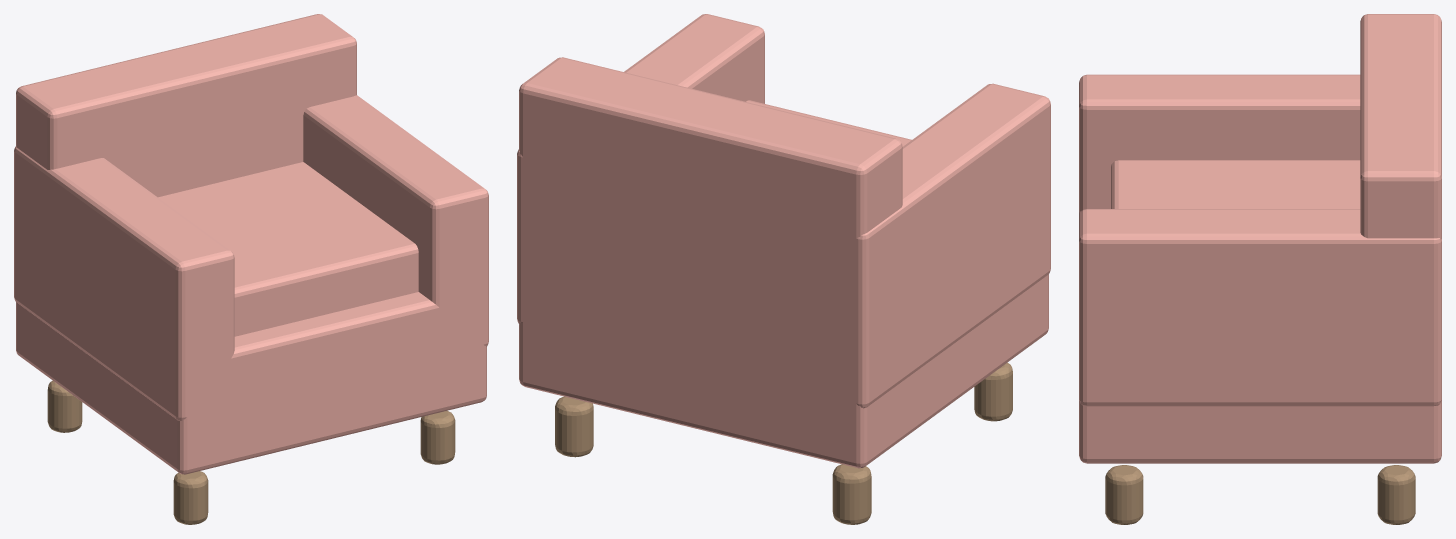
Rendered from Armchair.fbx.
The picture shows the model from 3 angles, left to right: view 1: azimuth 30°, elevation 25°; view 2: azimuth 150°, elevation 25°; view 3: azimuth 270°, elevation 25°; orthographic projection. The views are drawn at different scales.
Parts seen in each view (by area): view 1: Armchair; view 2: Armchair; view 3: Armchair.
Boxes of the visible parts, x1,y1,x2,y2 form: Armchair: (14,14,488,524); Armchair: (517,14,1050,524); Armchair: (1079,14,1441,524).
Bounding box in the file's own units: 0.86 × 0.88 × 0.8.
